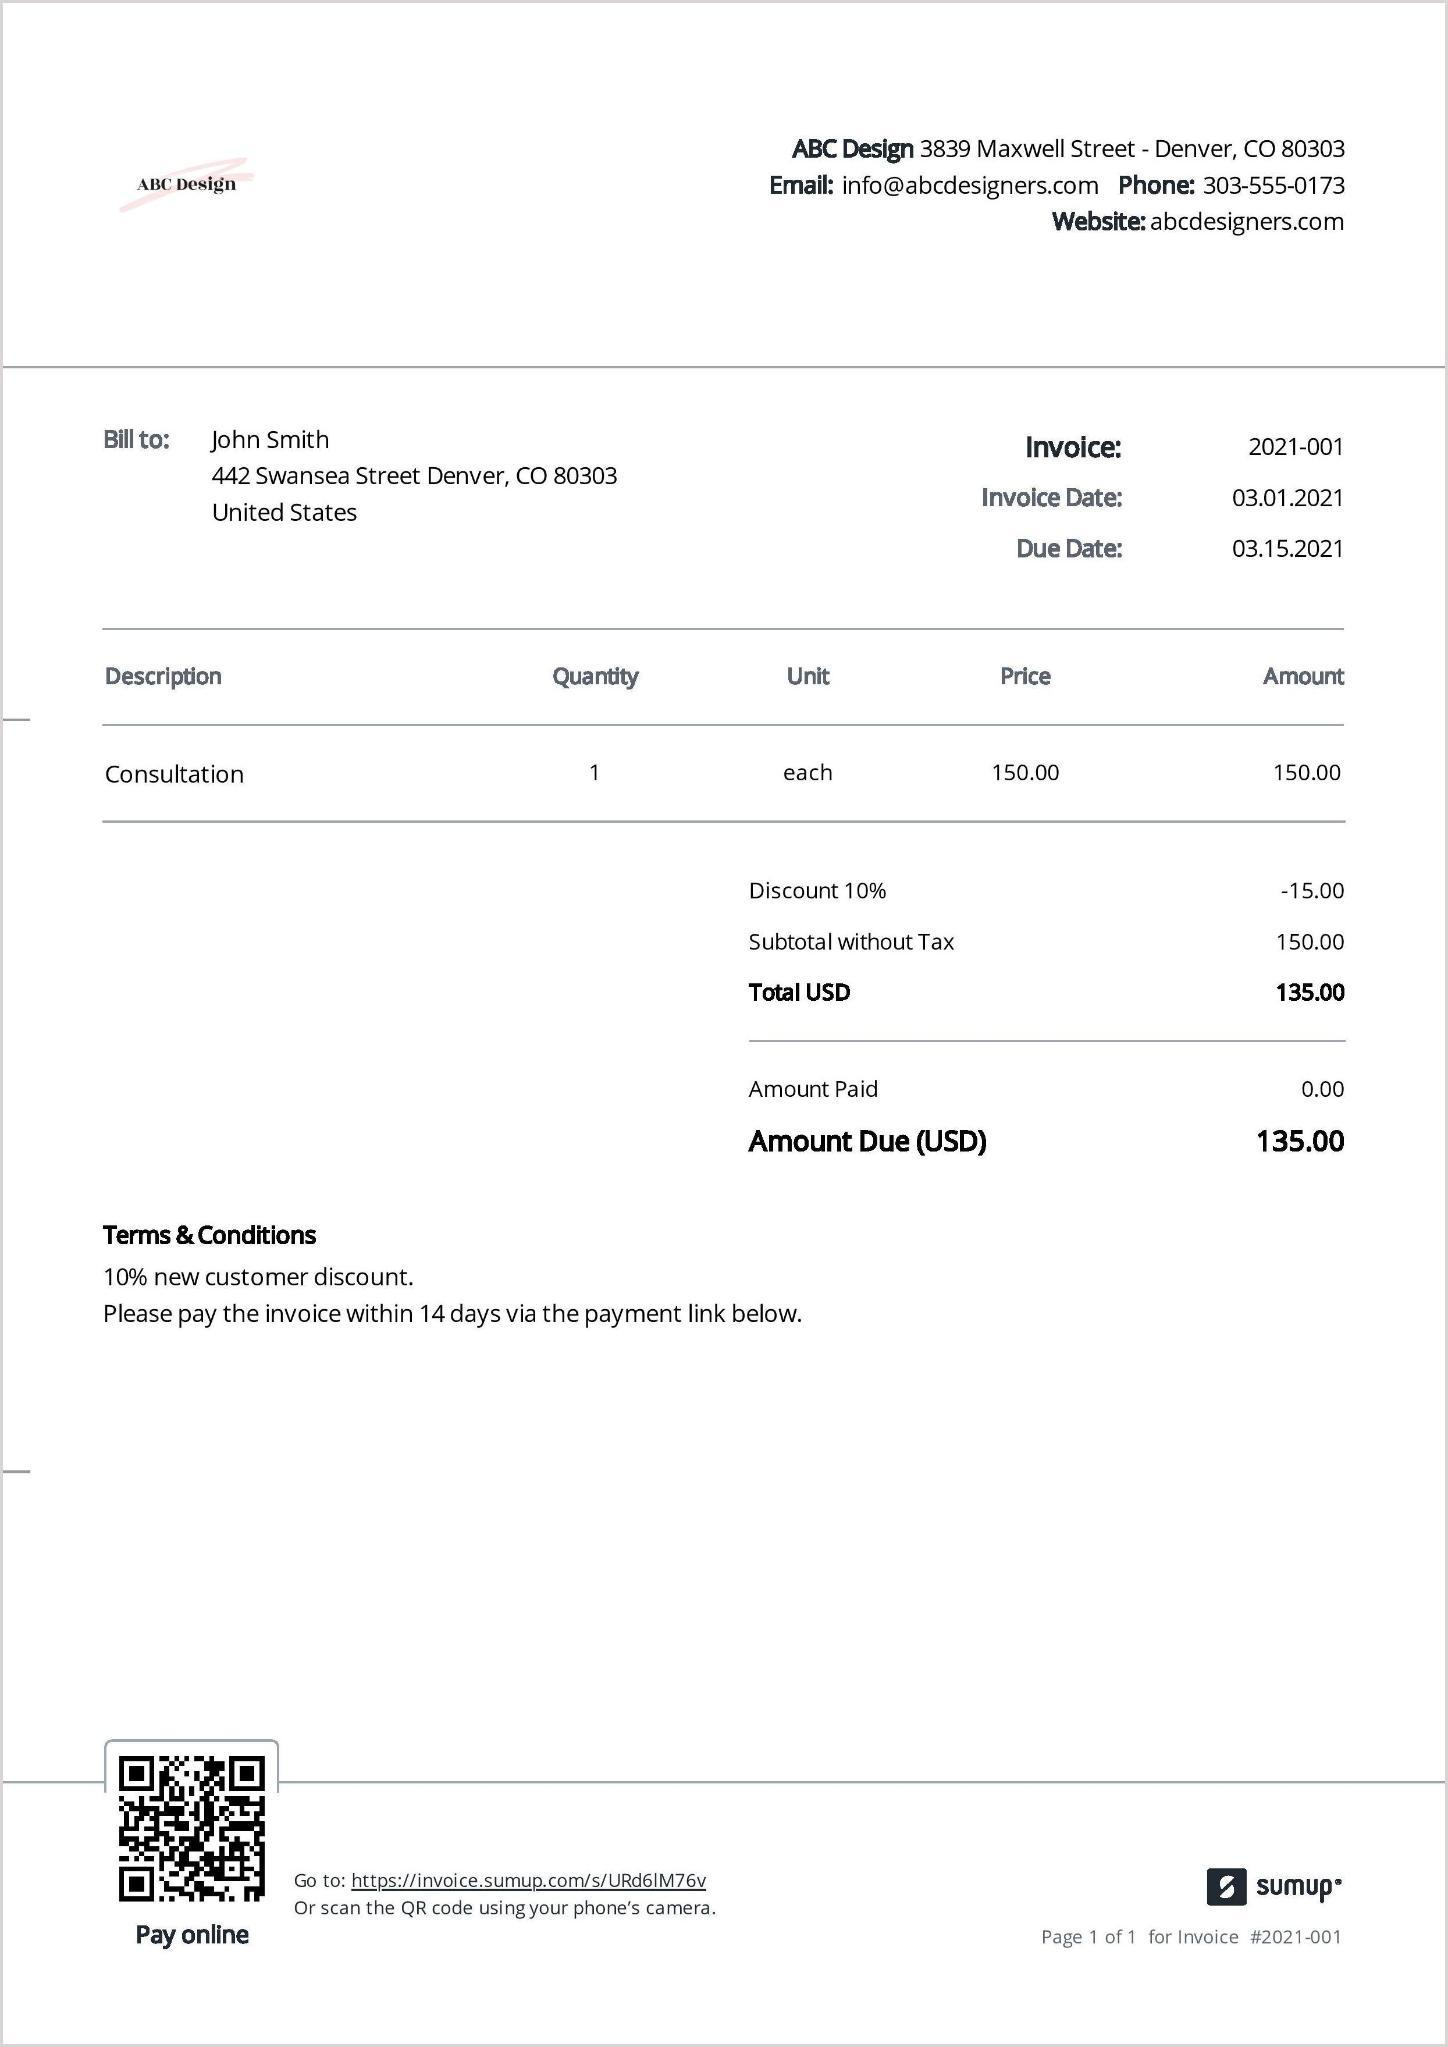ROI: (75, 599, 1395, 824), (38, 1721, 754, 1975), (78, 1208, 816, 1389), (729, 859, 1374, 1041), (749, 99, 1381, 273), (80, 384, 655, 558), (729, 1071, 1382, 1188), (961, 418, 1363, 577), (1014, 1839, 1388, 1987), (105, 143, 288, 230)
